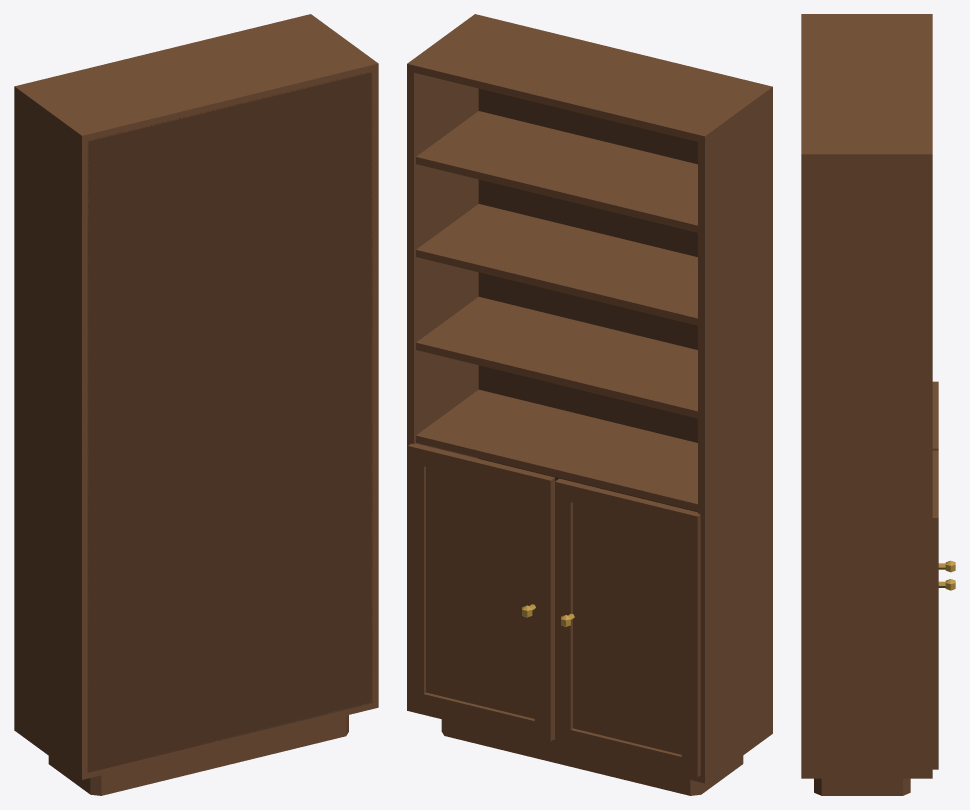
The model's file is SM_LPI_Storage_Bookcase_03.fbx.
3 views of the same model, side by side, from view 1: azimuth 30°, elevation 25°; view 2: azimuth 150°, elevation 25°; view 3: azimuth 270°, elevation 25° (orthographic). The views are drawn at different scales.
Visible parts, largest first — view 1: SM_LPI_Storage_Bookcase_03; view 2: SM_LPI_Storage_Bookcase_03; view 3: SM_LPI_Storage_Bookcase_03.
Boxes of the visible parts, left/top/right/bottom form: SM_LPI_Storage_Bookcase_03: left=14, top=14, right=378, bottom=795; SM_LPI_Storage_Bookcase_03: left=407, top=14, right=772, bottom=795; SM_LPI_Storage_Bookcase_03: left=801, top=14, right=955, bottom=795.
Size of the model in its own units: 0.86 by 1.86 by 0.3997.
